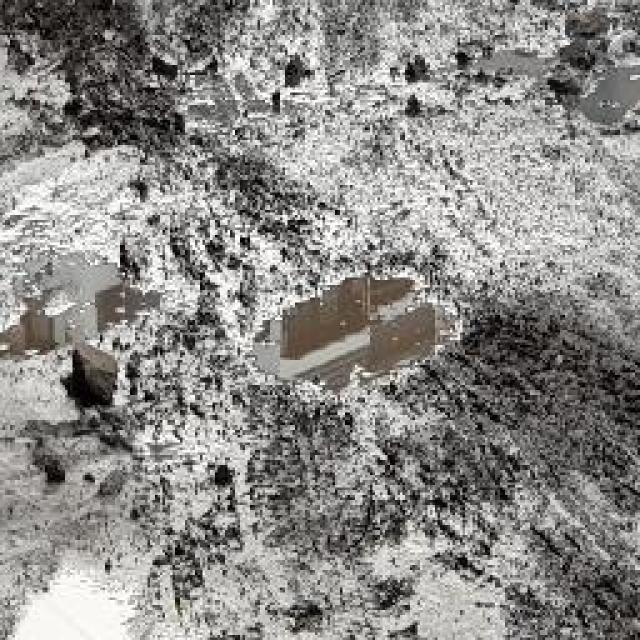puddle: (246, 271, 464, 399)
